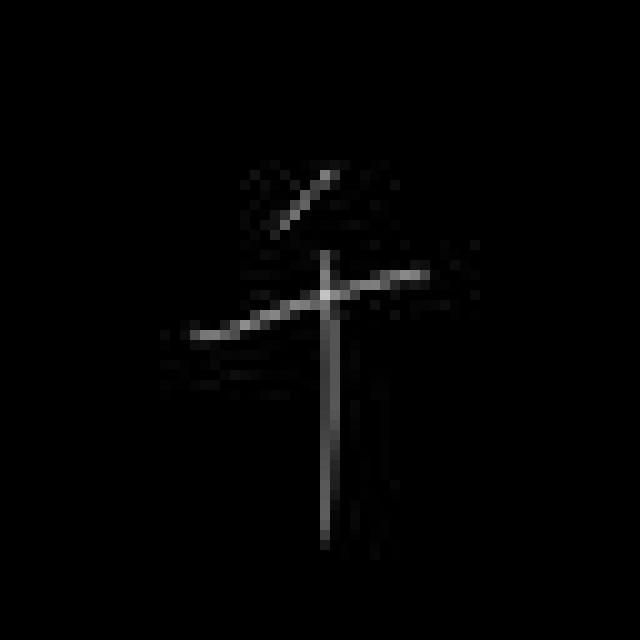1000 -a thousand-: (184, 155, 441, 551)
